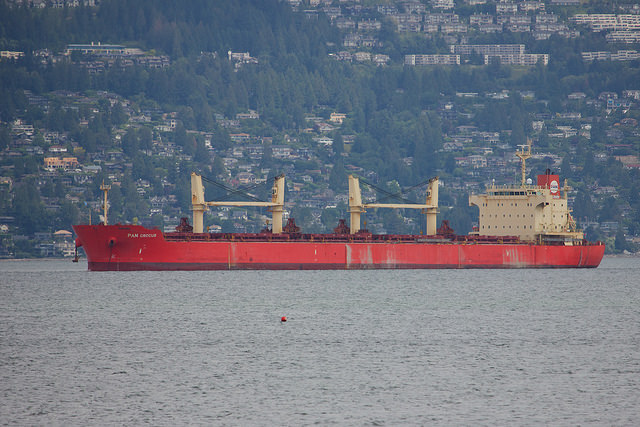bulk carrier: (74, 150, 608, 274)
